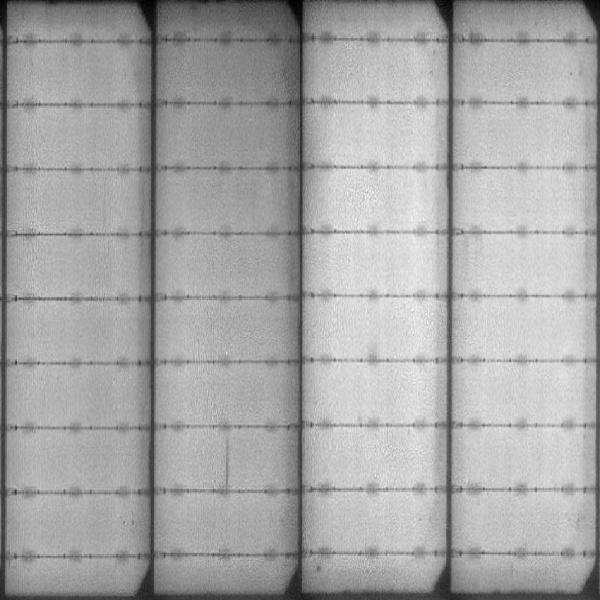scratch: (218, 438, 234, 488)
